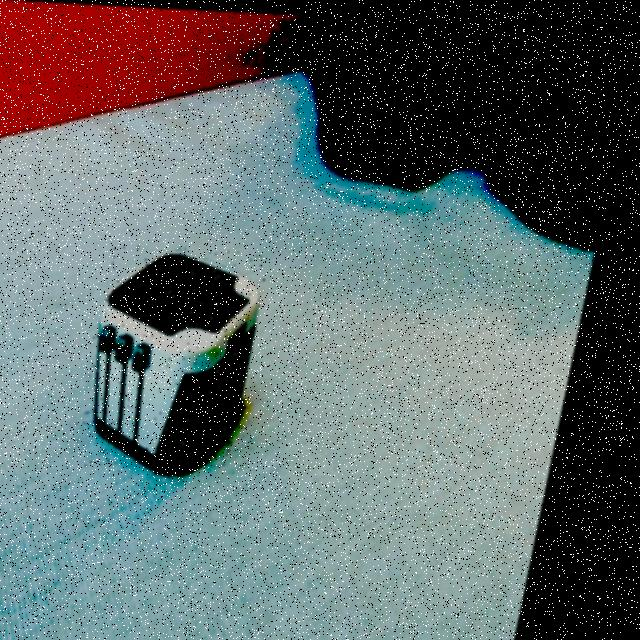adapter: (86, 243, 282, 475)
